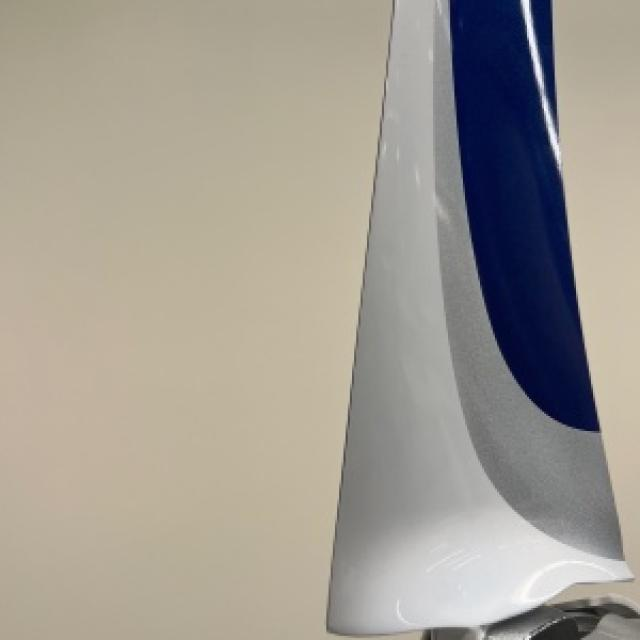healthy: (326, 0, 627, 631)
